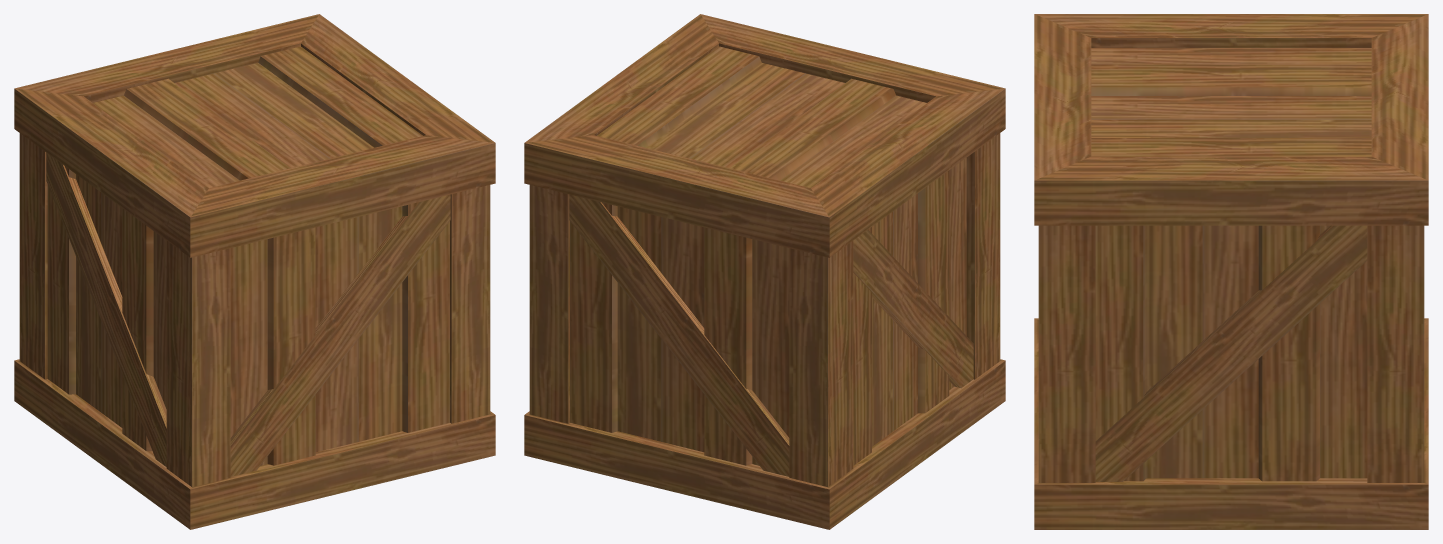
File: prop_crate.glb
3 views of the same model, side by side, from view 1: azimuth 30°, elevation 25°; view 2: azimuth 150°, elevation 25°; view 3: azimuth 270°, elevation 25° (orthographic). The views are drawn at different scales.
Visible parts, largest first — view 1: Prop_Crate; view 2: Prop_Crate; view 3: Prop_Crate.
Part boxes in pixels (<box>): Prop_Crate: <box>14,14,495,529</box>; Prop_Crate: <box>524,14,1005,529</box>; Prop_Crate: <box>1034,14,1428,529</box>.
Size of the model in its own units: 1.08 by 1.06 by 1.08.
1 material, 1 textured.
